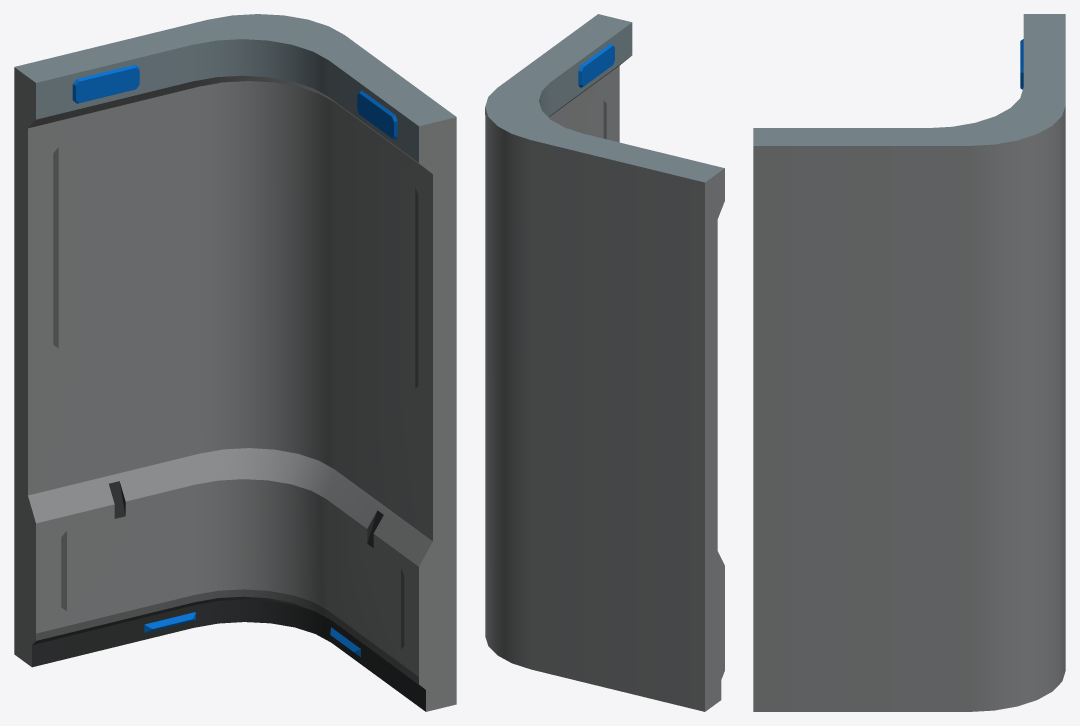
File: Wall_type_B_069.fbx
The picture shows the model from 3 angles, left to right: view 1: azimuth 30°, elevation 25°; view 2: azimuth 150°, elevation 25°; view 3: azimuth 270°, elevation 25°; orthographic projection. The views are drawn at different scales.
Parts seen in each view (by area): view 1: Wall_type_B_069; view 2: Wall_type_B_069; view 3: Wall_type_B_069.
Part boxes in pixels (x1,y1,x2,y2): Wall_type_B_069: [14, 14, 456, 711]; Wall_type_B_069: [485, 14, 724, 711]; Wall_type_B_069: [753, 14, 1065, 711].
Bounding box in the file's own units: 200 × 200 × 400.
